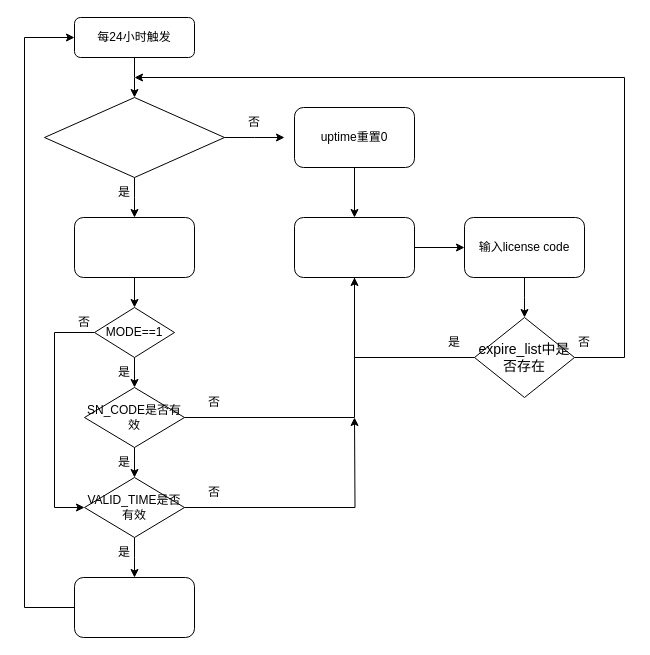
The diagram is 650 pixels wide and 655 high, and some of its shapes have lost their labels. Each missing label, with the box of its shape:
license code是否有效: (44, 96, 224, 178)
uptime追加24小时并加密存盘: (74, 576, 194, 638)
提示输入有效license code: (294, 216, 414, 278)
解码出MODE、SN_CODE和VALID_TIME: (74, 216, 194, 278)
